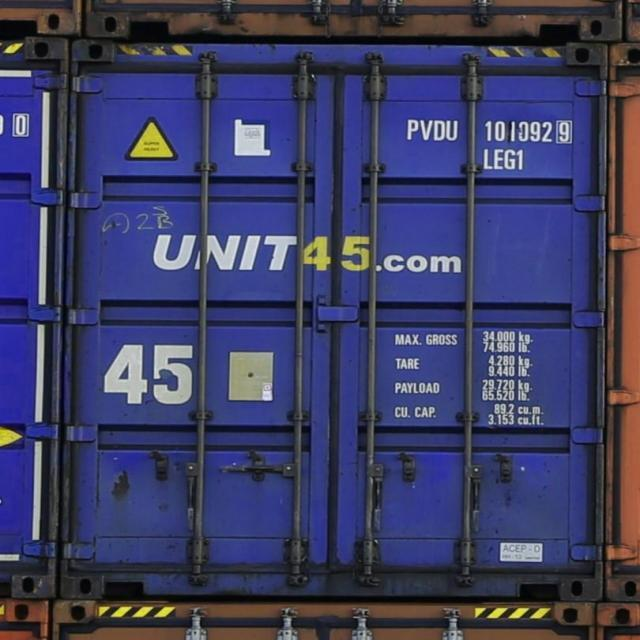ISO: (482, 149, 527, 172)
container_number: (406, 122, 574, 144)
